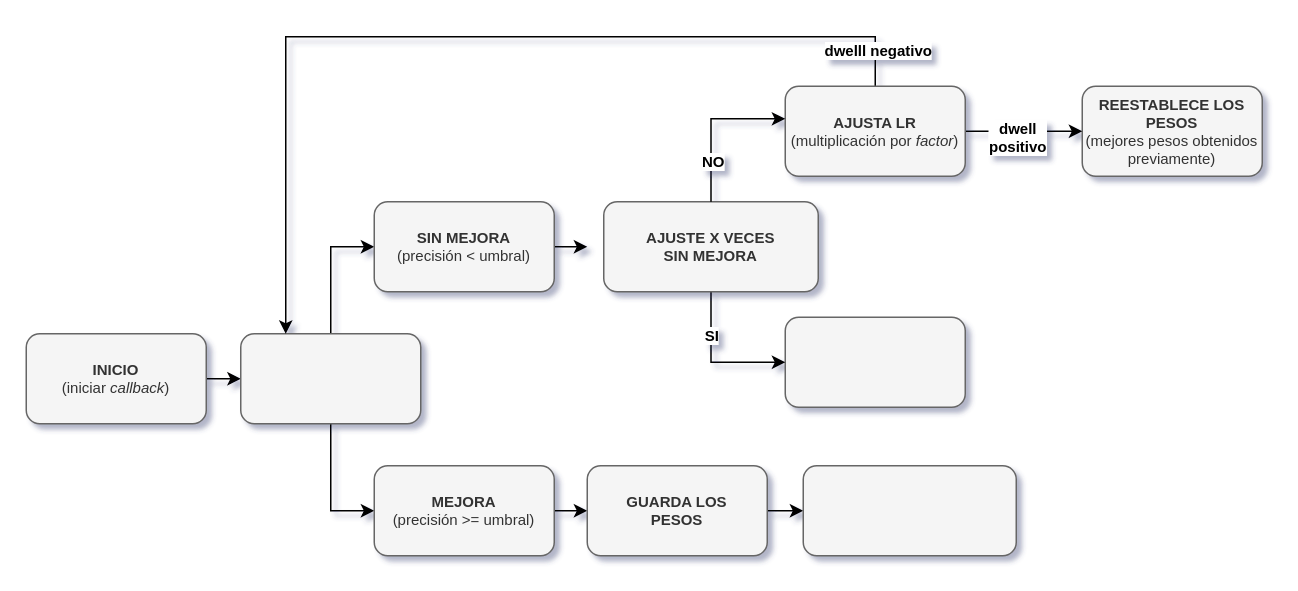
The diagram is 1298 pixels wide and 591 high, and some of its shapes have lost their labels. Here are the shapes that lost their labels. From the top down, the centre of each, then its label:
At pixel 330 378: "MONITORIZAR METRICAS (precisión y pérdida)".
At pixel 874 361: "DETIENE EL ENTRENAMIENTO".
At pixel 909 510: "AJUSTA METRICA A MONITORIZAR (pérdida de validación)".
